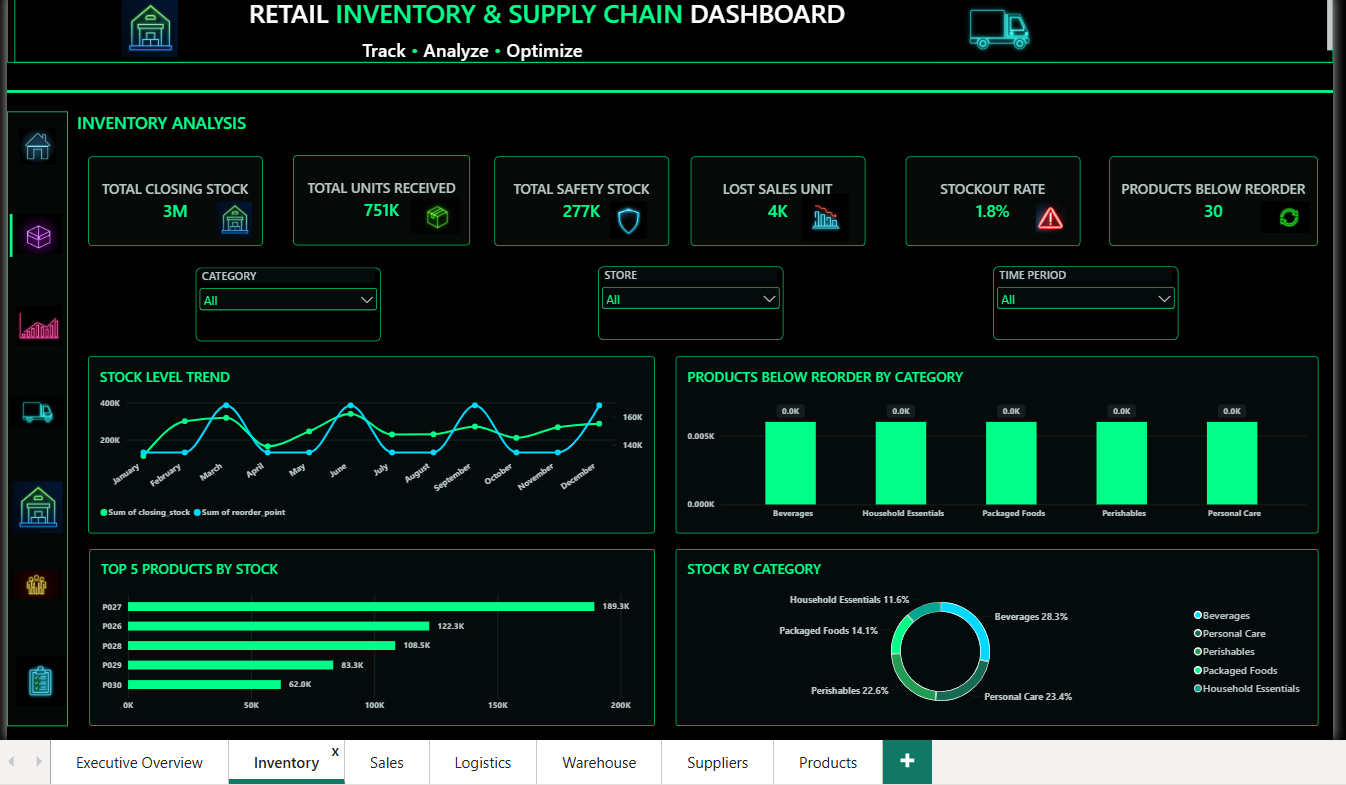

The dashboard page shown, as its layout file describes it:
{"tool":"powerbi","page":{"name":"Inventory","canvas":[1920,1080],"ordinal":1},"visuals":[{"type":"shape","box":[10.3,0,1910.1,100],"z":0},{"type":"shape","box":[0,99.5,1920.1,83.2],"z":1000},{"type":"textbox","box":[0,0,1920.1,99.5],"z":2000},{"type":"image","box":[1356,0,156,100],"z":3000},{"type":"shape","box":[0,170,88,890],"z":4000},{"type":"image","box":[10.9,193.6,67,52.5],"z":5000},{"type":"image","box":[12,300,66,94],"z":6000},{"type":"image","box":[12,418,66,122],"z":7000},{"type":"image","box":[4,560,78,92],"z":8000},{"type":"image","box":[8,706,74,74],"z":9000},{"type":"image","box":[6,780,74,150],"z":10000},{"type":"image","box":[12,932,72,124],"z":11000},{"type":"textbox","box":[101.3,170.1,282.3,38],"z":12000},{"type":"cardVisual","fields":{"Data":["inventory_ledger_clean.Total Closing Stock"]},"box":[117.4,234.7,253,129.5],"z":13000},{"type":"cardVisual","fields":{"Data":["inventory_ledger_clean.Total Units Received"]},"box":[414,234,256,130],"z":14000},{"type":"cardVisual","fields":{"Data":["Sum(inventory_ledger_clean.safety_stock)"]},"box":[706.2,234.7,253,129.5],"z":15000},{"type":"cardVisual","fields":{"Data":["inventory_ledger_clean.Lost Sales Units"]},"box":[989.5,234.7,253,129.5],"z":16000},{"type":"cardVisual","fields":{"Data":["inventory_ledger_clean.Stockout Rate"]},"box":[1301.2,234.7,253,129.5],"z":17000},{"type":"cardVisual","fields":{"Data":["inventory_ledger_clean.Products Below Reorder"]},"box":[1596.6,234.7,301.5,129.5],"z":18000},{"type":"lineChart","title":"STOCK LEVEL TREND","fields":{"Category":["inventory_ledger_clean.week_start.Variation.Date Hierarchy.Month"],"Y":["Sum(inventory_ledger_clean.closing_stock)"],"Y2":["Sum(inventory_ledger_clean.reorder_point)"]},"box":[118,524,820,256],"z":19000},{"type":"donutChart","title":"STOCK BY CATEGORY","fields":{"Category":["inventory_ledger_clean.category"],"Y":["Sum(inventory_ledger_clean.closing_stock)"]},"box":[968,804,930,256],"z":20000},{"type":"clusteredBarChart","title":"TOP 5 PRODUCTS BY STOCK","fields":{"Y":["Sum(inventory_ledger_clean.closing_stock)"],"Category":["inventory_ledger_clean.product_id"]},"box":[120,804,818,256],"z":21000},{"type":"clusteredColumnChart","title":"PRODUCTS BELOW REORDER BY CATEGORY","fields":{"Category":["inventory_ledger_clean.category"],"Y":["inventory_ledger_clean.Products Below Reorder"]},"box":[968,524,930,256],"z":22000},{"type":"slicer","fields":{"Values":["inventory_ledger_clean.category"]},"box":[274,396,268,106],"z":23000},{"type":"slicer","fields":{"Values":["inventory_ledger_clean.store_id"]},"box":[856,394,268,106],"z":24000},{"type":"slicer","fields":{"Values":["inventory_ledger_clean.week_start"]},"box":[1428,394,268,106],"z":25000},{"type":"image","box":[84,8,246,84],"z":26000},{"type":"shape","box":[0,318,12,62],"z":27000},{"type":"image","box":[304,300.4,50.7,52.5],"z":28000},{"type":"image","box":[584.5,293.2,72.4,56.1],"z":29000},{"type":"image","box":[1141.9,289.5,86.9,67],"z":30000},{"type":"image","box":[1474.9,302.2,72.4,43.4],"z":31000},{"type":"image","box":[1815.1,293.2,70.6,59.7],"z":32000},{"type":"image","box":[856,300.4,88.7,54.3],"z":33000}]}

Visuals, with their boxes on the page's 1920x1080 design canvas (x1, y1, x2, y2). These are canvas units, not pixel positions in the 1346x785 screenshot, which may show the page scaled, cropped or inside an application window:
shape: 10, 0, 1920, 100
shape: 0, 100, 1920, 183
textbox: 0, 0, 1920, 100
image: 1356, 0, 1512, 100
shape: 0, 170, 88, 1060
image: 11, 194, 78, 246
image: 12, 300, 78, 394
image: 12, 418, 78, 540
image: 4, 560, 82, 652
image: 8, 706, 82, 780
image: 6, 780, 80, 930
image: 12, 932, 84, 1056
textbox: 101, 170, 384, 208
cardVisual - inventory_ledger_clean.Total Closing Stock: 117, 235, 370, 364
cardVisual - inventory_ledger_clean.Total Units Received: 414, 234, 670, 364
cardVisual - Sum(inventory_ledger_clean.safety_stock): 706, 235, 959, 364
cardVisual - inventory_ledger_clean.Lost Sales Units: 990, 235, 1242, 364
cardVisual - inventory_ledger_clean.Stockout Rate: 1301, 235, 1554, 364
cardVisual - inventory_ledger_clean.Products Below Reorder: 1597, 235, 1898, 364
"STOCK LEVEL TREND" lineChart: 118, 524, 938, 780
"STOCK BY CATEGORY" donutChart: 968, 804, 1898, 1060
"TOP 5 PRODUCTS BY STOCK" clusteredBarChart: 120, 804, 938, 1060
"PRODUCTS BELOW REORDER BY CATEGORY" clusteredColumnChart: 968, 524, 1898, 780
slicer - inventory_ledger_clean.category: 274, 396, 542, 502
slicer - inventory_ledger_clean.store_id: 856, 394, 1124, 500
slicer - inventory_ledger_clean.week_start: 1428, 394, 1696, 500
image: 84, 8, 330, 92
shape: 0, 318, 12, 380
image: 304, 300, 355, 353
image: 584, 293, 657, 349
image: 1142, 290, 1229, 356
image: 1475, 302, 1547, 346
image: 1815, 293, 1886, 353
image: 856, 300, 945, 355
